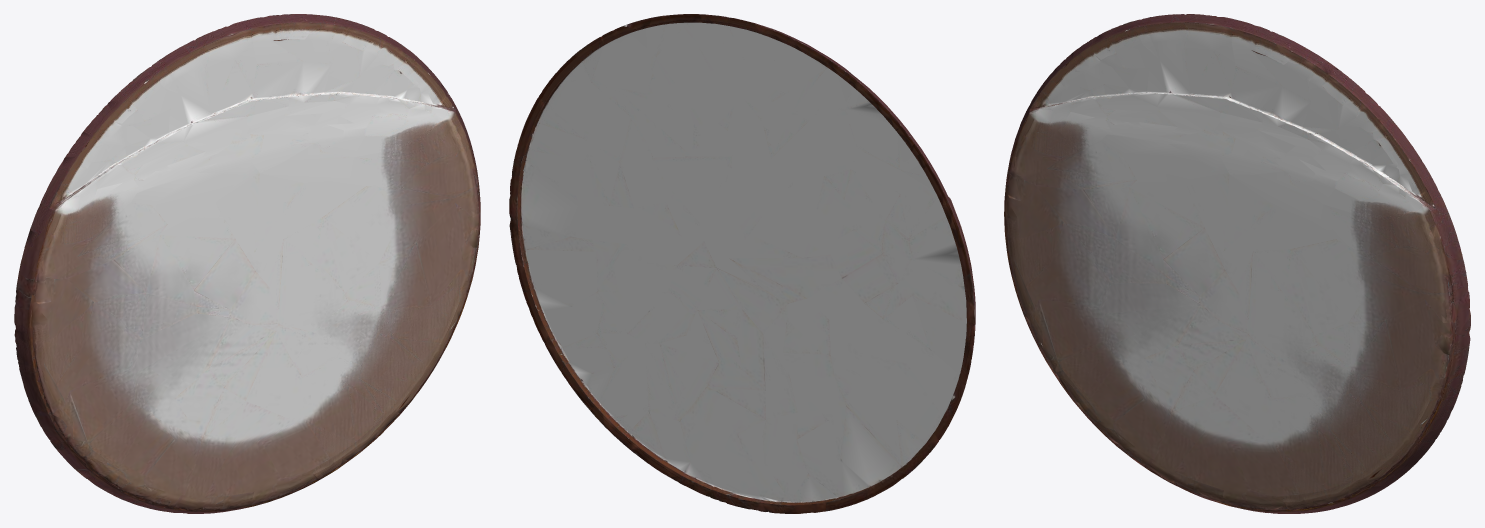
The picture shows the model from 3 angles, left to right: view 1: azimuth 30°, elevation 25°; view 2: azimuth 150°, elevation 25°; view 3: azimuth 330°, elevation 25°; orthographic projection.
Visible parts, largest first — view 1: Mesh_0; view 2: Mesh_0; view 3: Mesh_0.
Part boxes in pixels (box(x1,y1,x2,y2)): Mesh_0: box(14, 14, 480, 513); Mesh_0: box(509, 14, 975, 513); Mesh_0: box(1004, 14, 1470, 513).
Size of the model in its own units: 0.7998 by 0.8 by 0.0318.
Materials: 1 (1 with a texture image).
